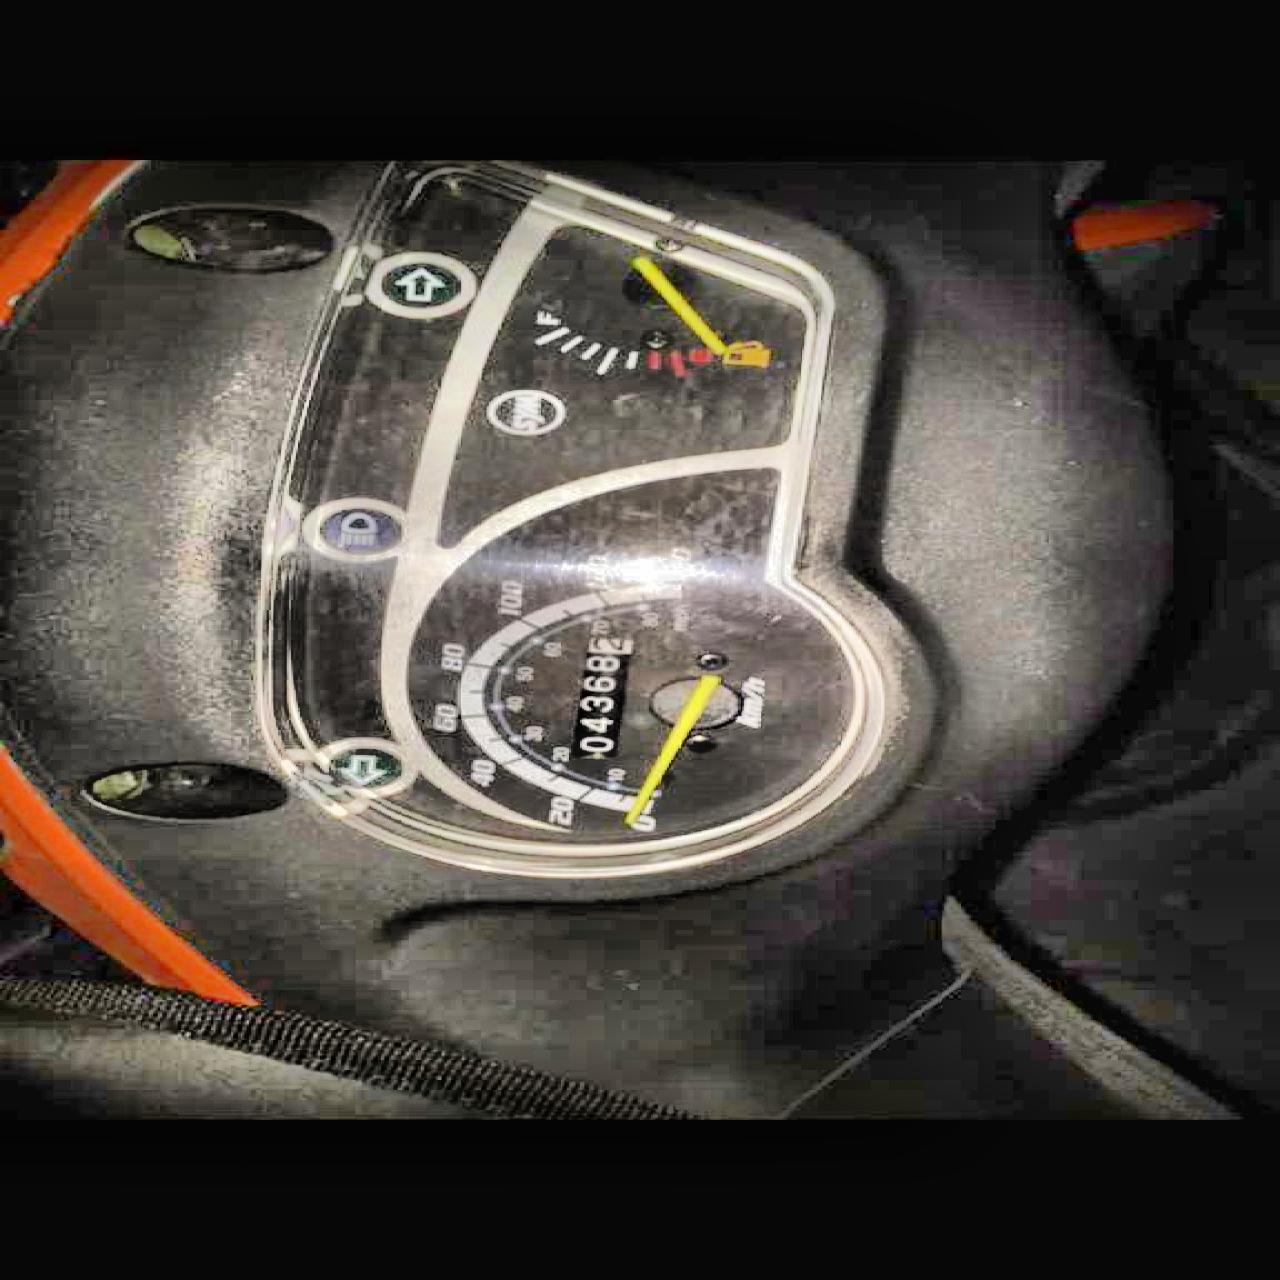0: (578, 736, 613, 751)
2: (591, 636, 622, 651)
3: (578, 695, 613, 712)
4: (578, 716, 611, 731)
6: (580, 675, 613, 692)
8: (583, 655, 620, 670)
odometer: (567, 633, 633, 757)
